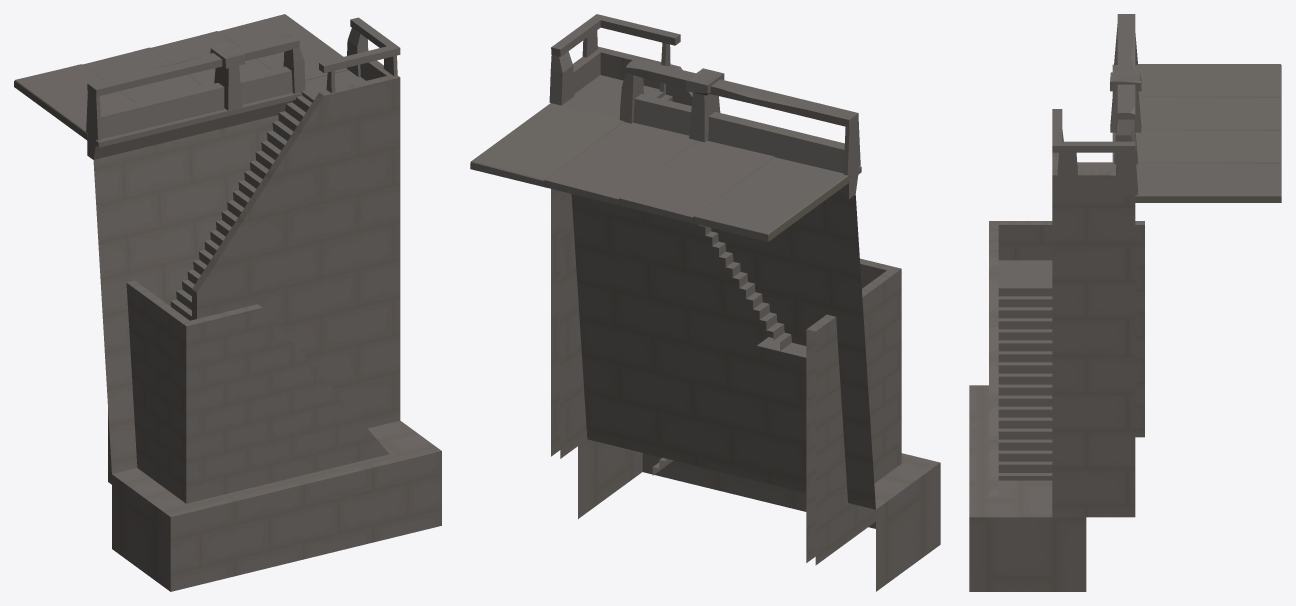
The model's file is NS_River_Wall_Stairs.fbx.
3 views of the same model, side by side, from view 1: azimuth 30°, elevation 25°; view 2: azimuth 150°, elevation 25°; view 3: azimuth 270°, elevation 25° (orthographic). The views are drawn at different scales.
Visible parts, largest first — view 1: NS_River_Wall_Stairs; view 2: NS_River_Wall_Stairs; view 3: NS_River_Wall_Stairs.
Boxes of the visible parts, x1=… form: NS_River_Wall_Stairs: x1=14, y1=14, x2=441, y2=591; NS_River_Wall_Stairs: x1=470, y1=14, x2=940, y2=591; NS_River_Wall_Stairs: x1=969, y1=14, x2=1281, y2=591.
Size of the model in its own units: 800 by 1269 by 800.
